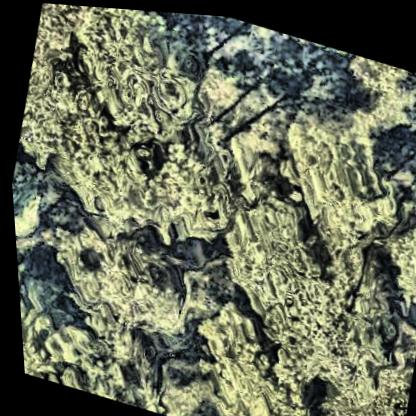tree-top: (205, 183, 354, 364), (261, 88, 416, 258), (37, 211, 208, 354), (66, 4, 216, 141), (37, 100, 177, 231), (179, 293, 328, 416), (140, 135, 246, 254), (297, 334, 413, 416), (332, 45, 416, 135), (372, 185, 416, 312), (16, 300, 57, 380)
